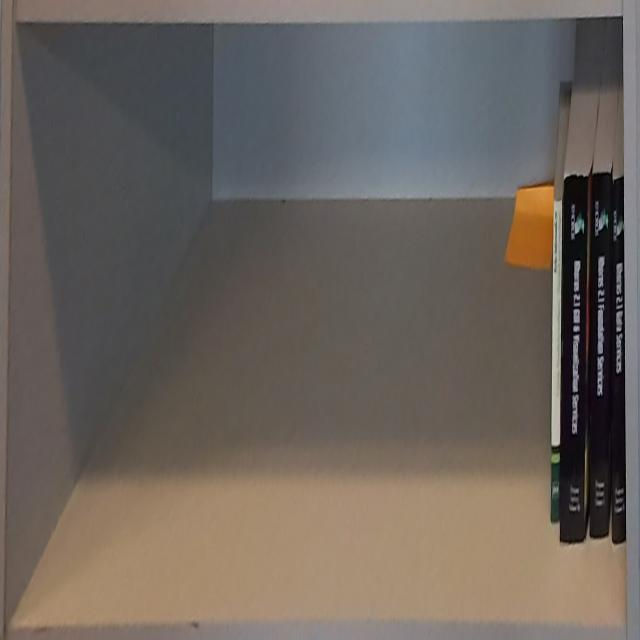Book Spine: (560, 176, 589, 544), (591, 172, 614, 538), (612, 177, 626, 545), (551, 200, 561, 524)
